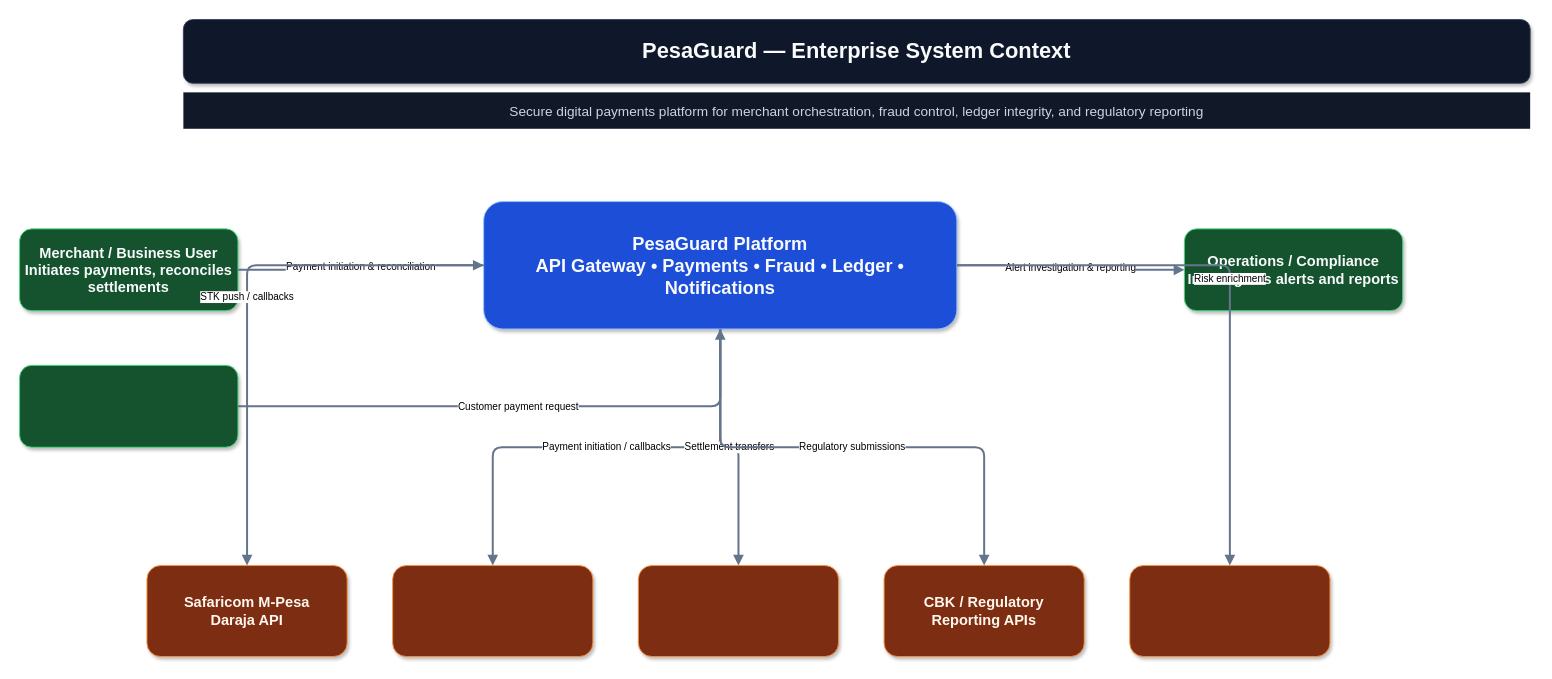
This 1552x679 diagram has some shape labels left out. The shapes that lost their labels are listed below. From the top down, each one's centre as x and y in pixels, then its label:
[129,407]: End Customer Pays via STK / USSD / mobile wallet
[493,612]: Airtel Money API
[739,612]: Partner Banks Settlement rails
[1230,612]: Telecom SIM-swap Signal Feed
